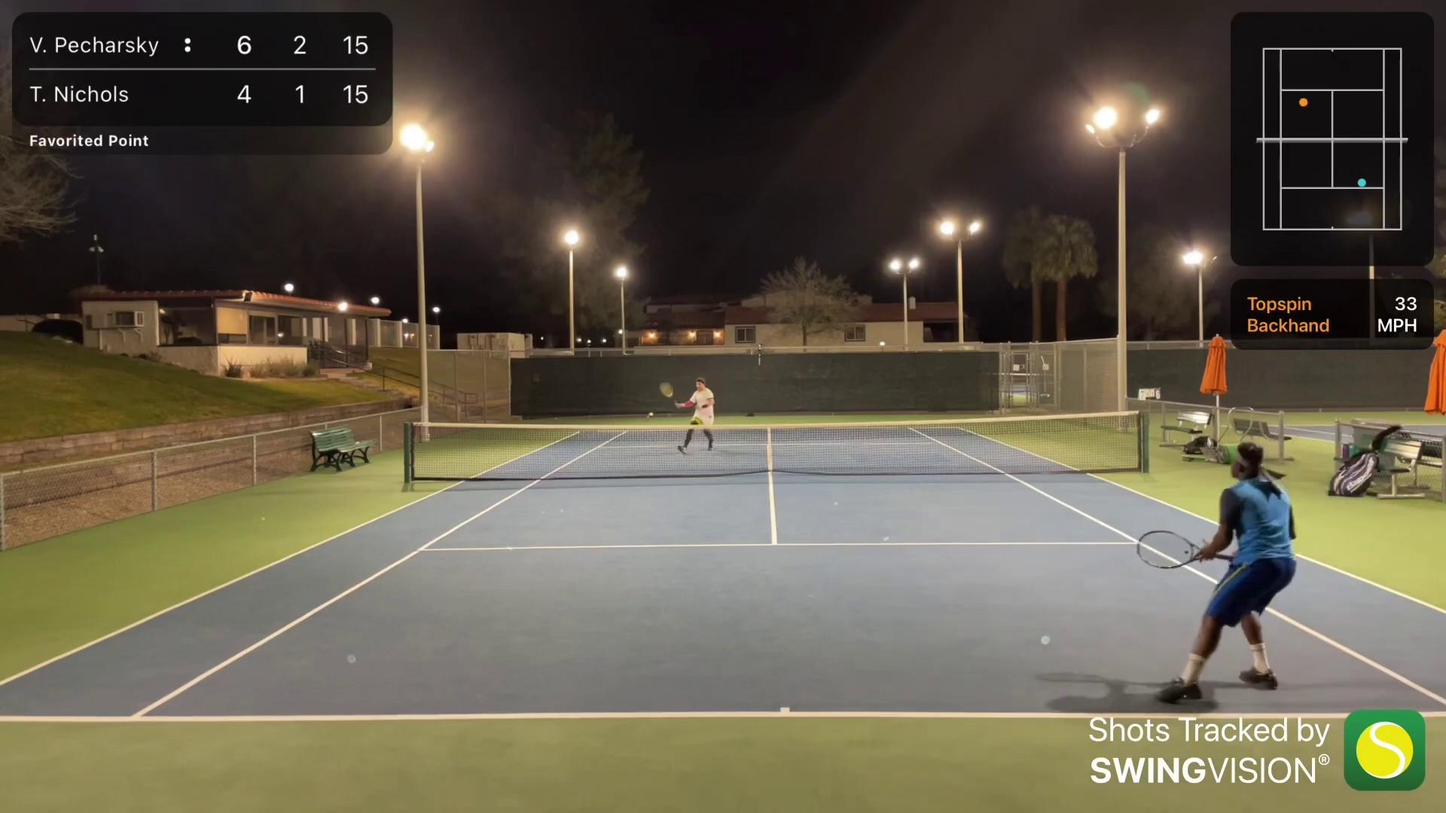ball: (644, 406, 658, 420)
